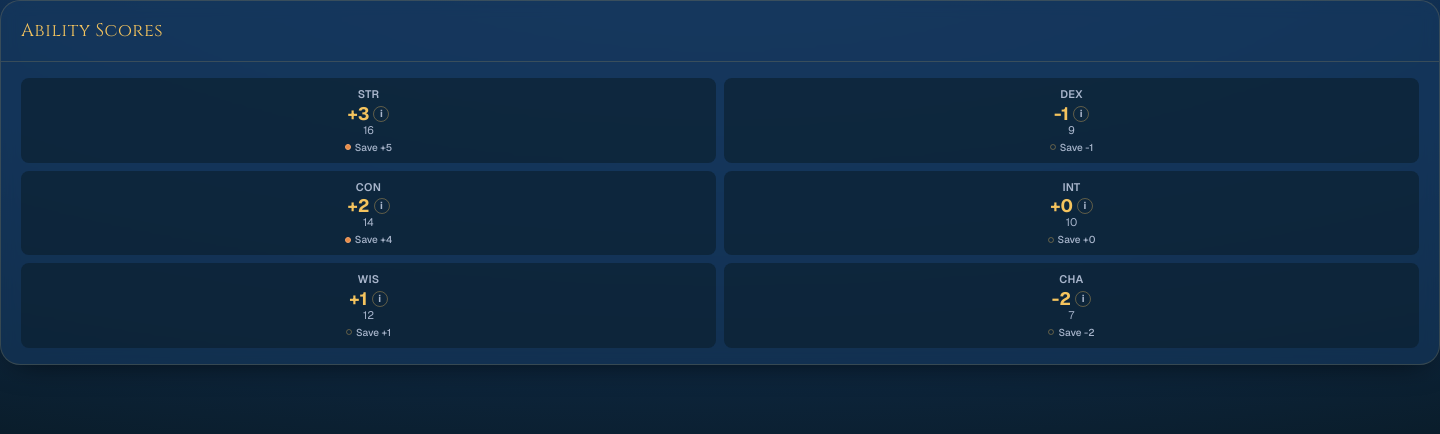
Scenario: AbilityScoresPanel › the Save button rolls a saving throw only (not also an ability check)
Step 1. Click the button "Save +5" → (368, 147), box [345,140,392,154]
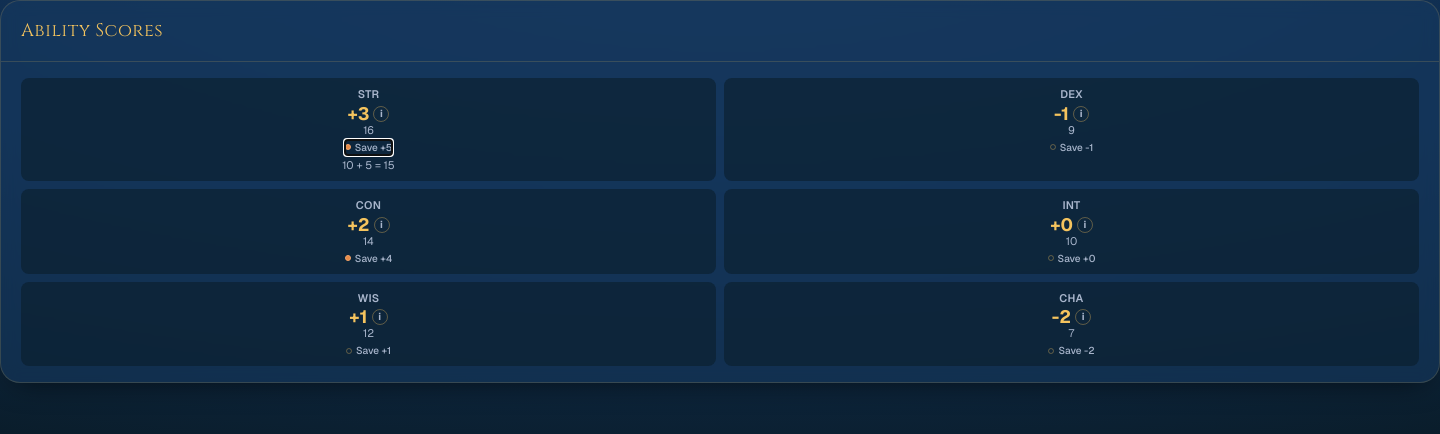
Now the text "10 + 5 = 15" is shown, box [342,158,395,172]
